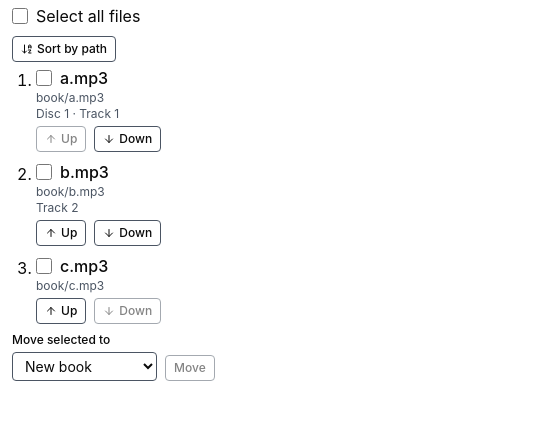
Scenario: GroupFiles › shows an alert and reloads the files after a 400
Click the button with aria-label "Move b.mp3 up" at coordinates (61, 233), box [36,220,86,246]
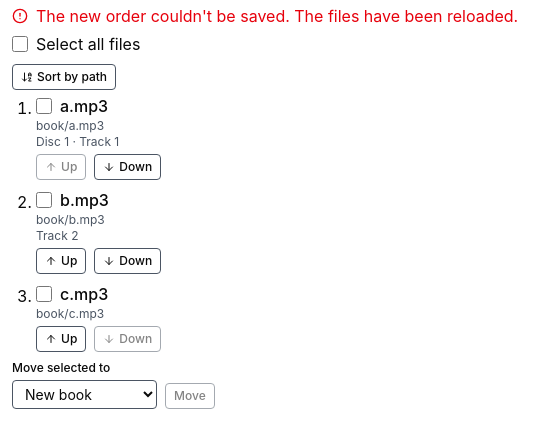
Check: the button with aria-label "Move b.mp3 up" is enabled, box [36,248,86,274]
Check: the message shows "couldn't be saved", box [36,6,518,26]
